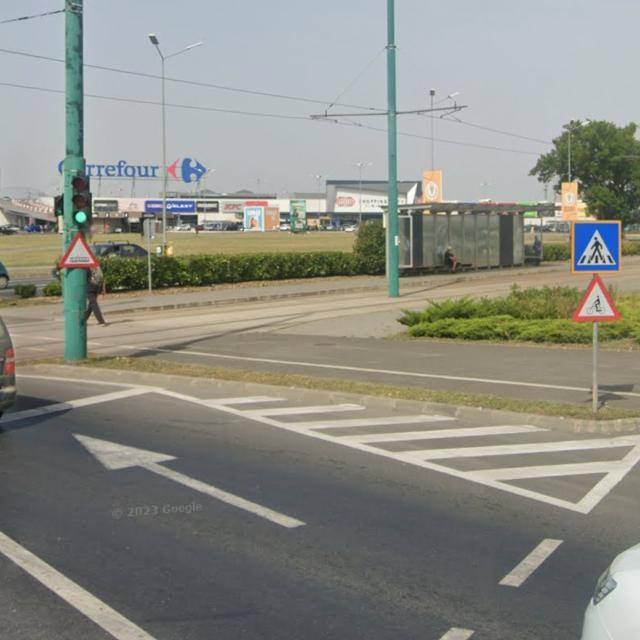info_crosswalk: (570, 220, 622, 273)
